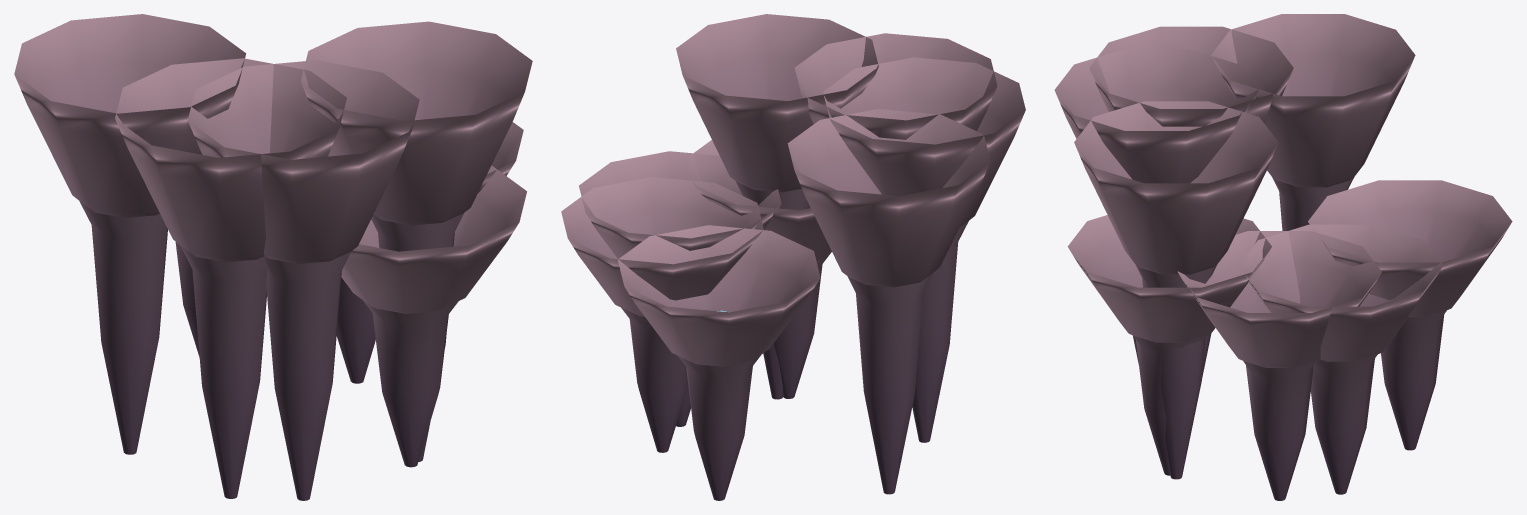
Rendered from alien-cup.glb.
The picture shows the model from 3 angles, left to right: view 1: azimuth 30°, elevation 25°; view 2: azimuth 150°, elevation 25°; view 3: azimuth 270°, elevation 25°; orthographic projection. The views are drawn at different scales.
Parts seen in each view (by area): view 1: cup-1, cup-0; view 2: cup-0, cup-1; view 3: cup-0, cup-1.
Boxes of the visible parts, x1=… form: cup-1: x1=14, y1=14, x2=526, y2=500; cup-0: x1=115, y1=21, x2=532, y2=498; cup-0: x1=579, y1=14, x2=1025, y2=500; cup-1: x1=561, y1=33, x2=997, y2=494; cup-0: x1=1074, y1=26, x2=1512, y2=500; cup-1: x1=1054, y1=14, x2=1442, y2=494.
Bounding box in the file's own units: 1.22 × 1 × 1.24.
